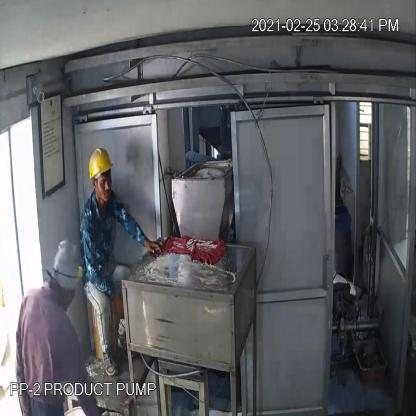helmet: (86, 149, 114, 188)
